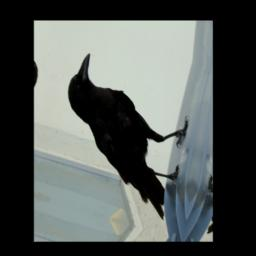Crow: (52, 47, 197, 223)
